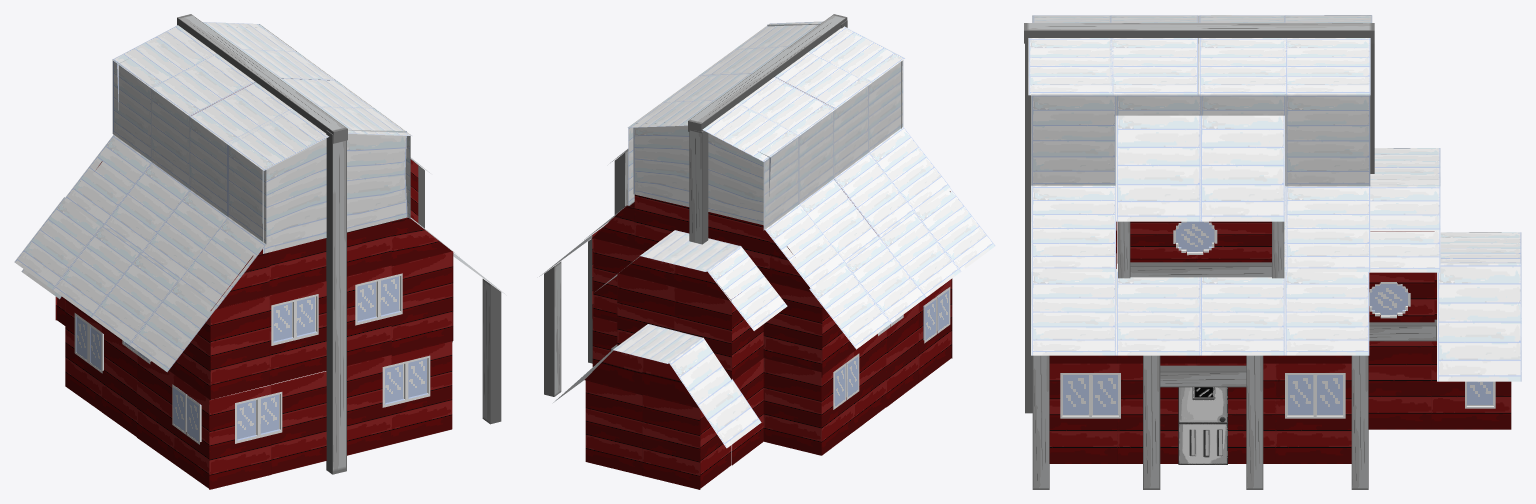
Rendered from Tony_House.fbx.
3 renders of one model, left to right at view 1: azimuth 30°, elevation 25°; view 2: azimuth 150°, elevation 25°; view 3: azimuth 270°, elevation 25°, orthographic. The views are drawn at different scales.
Visible parts, largest first — view 1: Plane.098, Plane.095, Plane.096, Plane.048, Plane.047, Plane.013, Plane.014, Plane.069, Plane.071, Plane.066, Plane.011, Plane.072 (+42 smaller); view 2: Plane.101, Plane.017, Plane.102, Plane.111, Plane.094, Plane.091, Plane.051, Plane.069, Plane.066, Plane.071, Plane.072, Plane.073 (+48 smaller); view 3: Plane.109, Plane.036, Plane.037, Plane.055, Plane.054, Plane.053, Plane.056, Plane.001, Plane.031, Plane.028, Plane.027, Plane.110 (+45 smaller).
Part boxes in pixels (x1,y1,x2,y2): Plane.098: [326, 130, 346, 474]; Plane.095: [262, 138, 326, 253]; Plane.096: [347, 130, 407, 232]; Plane.048: [210, 296, 270, 399]; Plane.047: [391, 251, 453, 355]; Plane.013: [271, 371, 326, 474]; Plane.014: [209, 385, 271, 489]; Plane.069: [63, 135, 151, 226]; Plane.071: [52, 225, 140, 316]; Plane.066: [178, 217, 265, 308]; Plane.011: [391, 341, 452, 444]; Plane.072: [91, 252, 178, 344]; Plane.101: [642, 394, 700, 489]; Plane.017: [764, 358, 821, 455]; Plane.102: [585, 380, 642, 475]; Plane.111: [669, 337, 761, 448]; Plane.094: [633, 122, 689, 206]; Plane.091: [708, 133, 770, 225]; Plane.051: [764, 281, 822, 377]; Plane.069: [765, 204, 846, 289]; Plane.066: [868, 126, 949, 212]; Plane.071: [845, 237, 925, 323]; Plane.072: [879, 212, 960, 297]; Plane.073: [913, 187, 995, 271]; Plane.109: [1437, 263, 1521, 381]; Plane.036: [1115, 115, 1200, 221]; Plane.037: [1200, 115, 1284, 221]; Plane.055: [1285, 94, 1370, 186]; Plane.054: [1031, 94, 1115, 185]; Plane.053: [1031, 185, 1115, 271]; Plane.056: [1285, 186, 1370, 271]; Plane.001: [1284, 272, 1369, 355]; Plane.031: [1031, 272, 1115, 355]; Plane.028: [1115, 269, 1200, 355]; Plane.027: [1200, 272, 1284, 355]; Plane.110: [1369, 186, 1440, 272].
Bounding box in the file's own units: 813 × 776 × 913.
137 materials, 137 textured.
